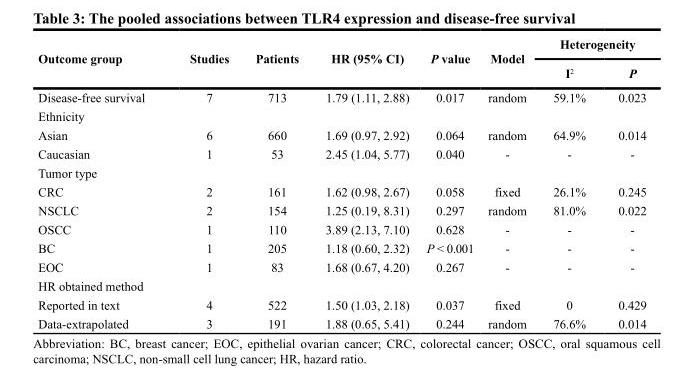table: (37, 36, 645, 330)
table column: (37, 36, 166, 330), (311, 36, 417, 330), (166, 36, 241, 330), (241, 36, 311, 330), (417, 36, 480, 330), (539, 36, 601, 330), (480, 36, 539, 330), (601, 36, 645, 330)
table column header: (37, 36, 645, 84)
table projected row header: (37, 106, 645, 125), (37, 162, 645, 181), (37, 276, 645, 294)
table row: (37, 58, 645, 84), (37, 36, 645, 58), (37, 84, 645, 106), (37, 106, 645, 125), (37, 125, 645, 144), (37, 162, 645, 181), (37, 181, 645, 200), (37, 200, 645, 219), (37, 219, 645, 238), (37, 238, 645, 257), (37, 257, 645, 276), (37, 294, 645, 313), (37, 144, 645, 162), (37, 276, 645, 294), (37, 313, 645, 330)
table spanning cell: (37, 36, 166, 84), (311, 36, 417, 84), (166, 36, 241, 84), (241, 36, 311, 84), (417, 36, 480, 84), (480, 36, 539, 84), (539, 36, 645, 58)
